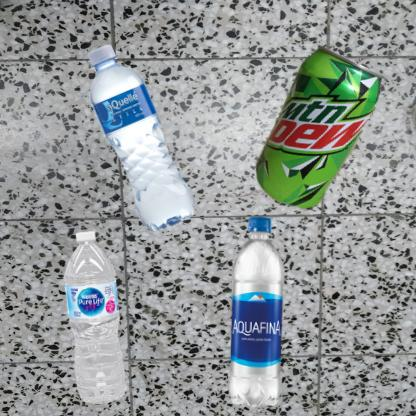botella: (10, 10, 278, 278), (10, 213, 183, 416), (213, 213, 303, 412)
lata: (213, 10, 416, 284)
